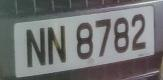2: (129, 10, 149, 52)
7: (94, 13, 114, 62)
8: (74, 17, 97, 66), (111, 13, 133, 56)
N: (22, 22, 49, 74), (45, 20, 69, 71)
